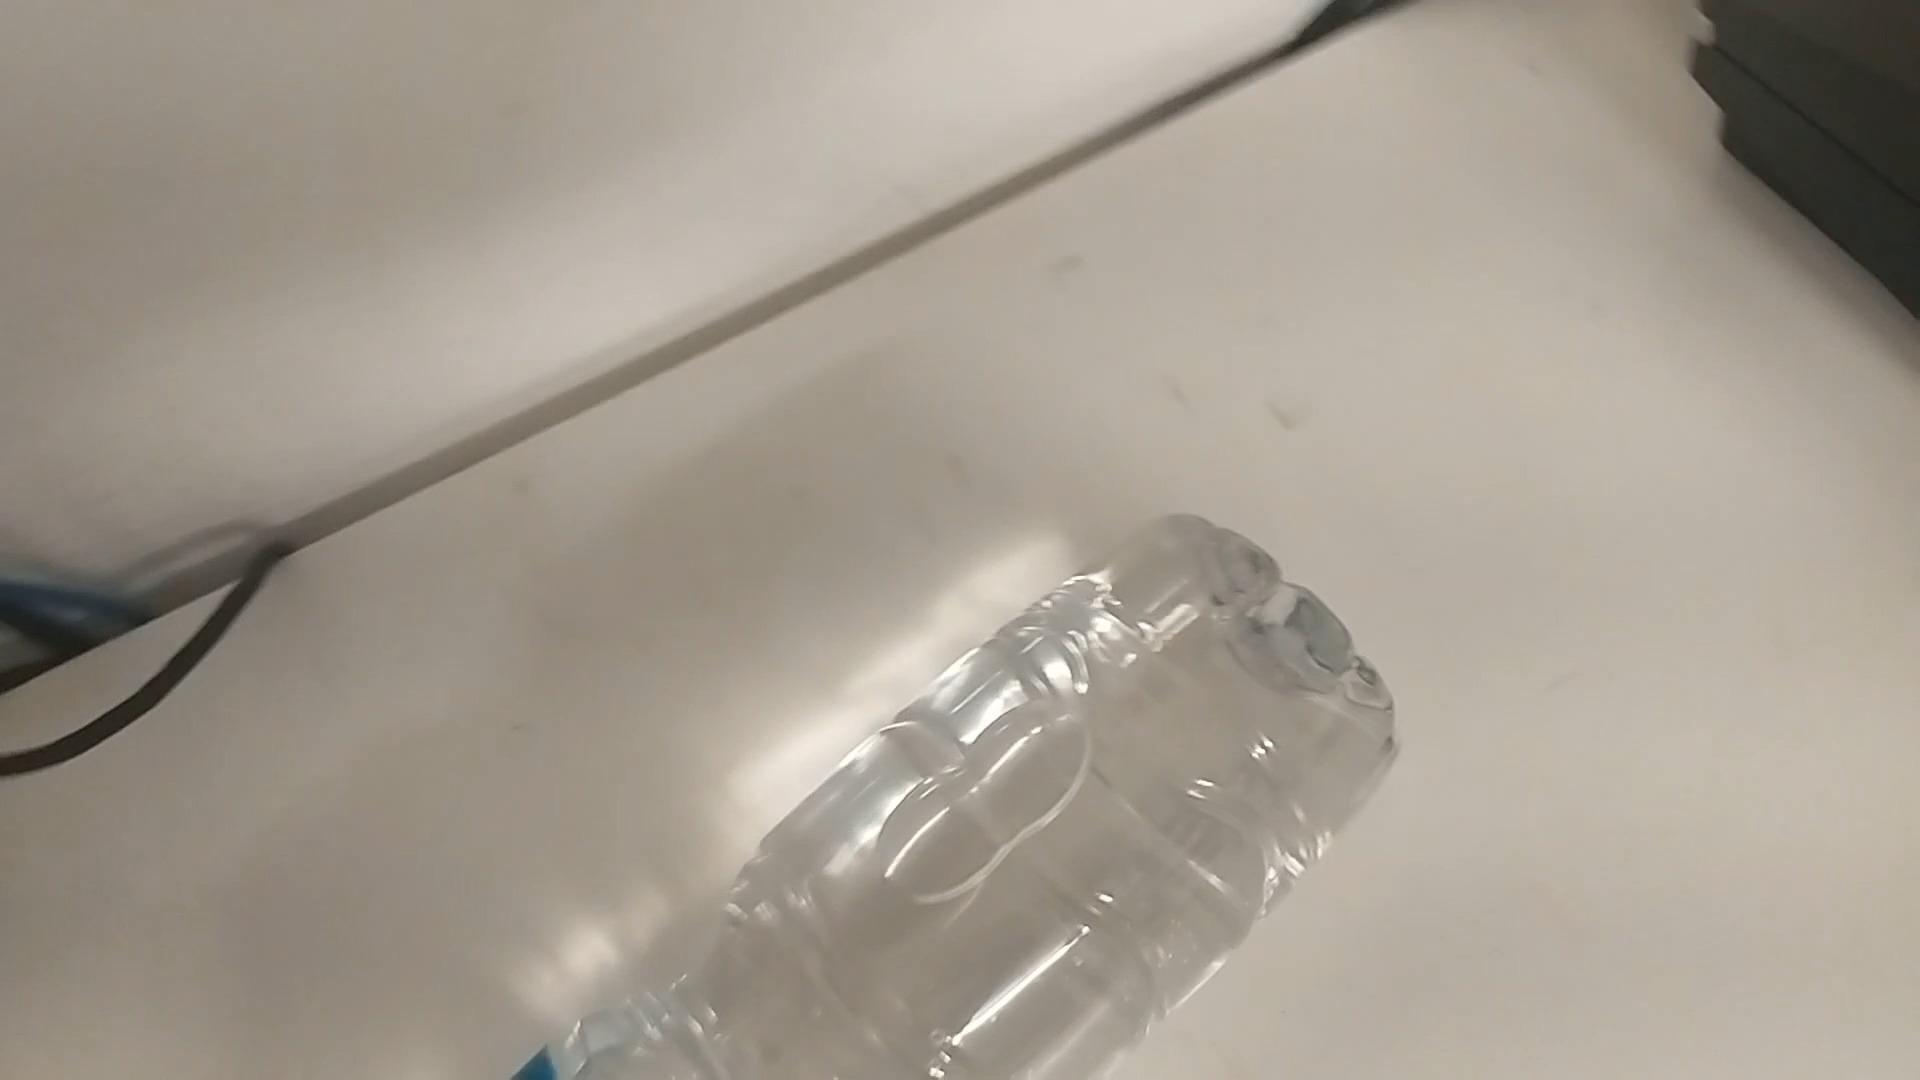agua: (500, 520, 1383, 1077)
